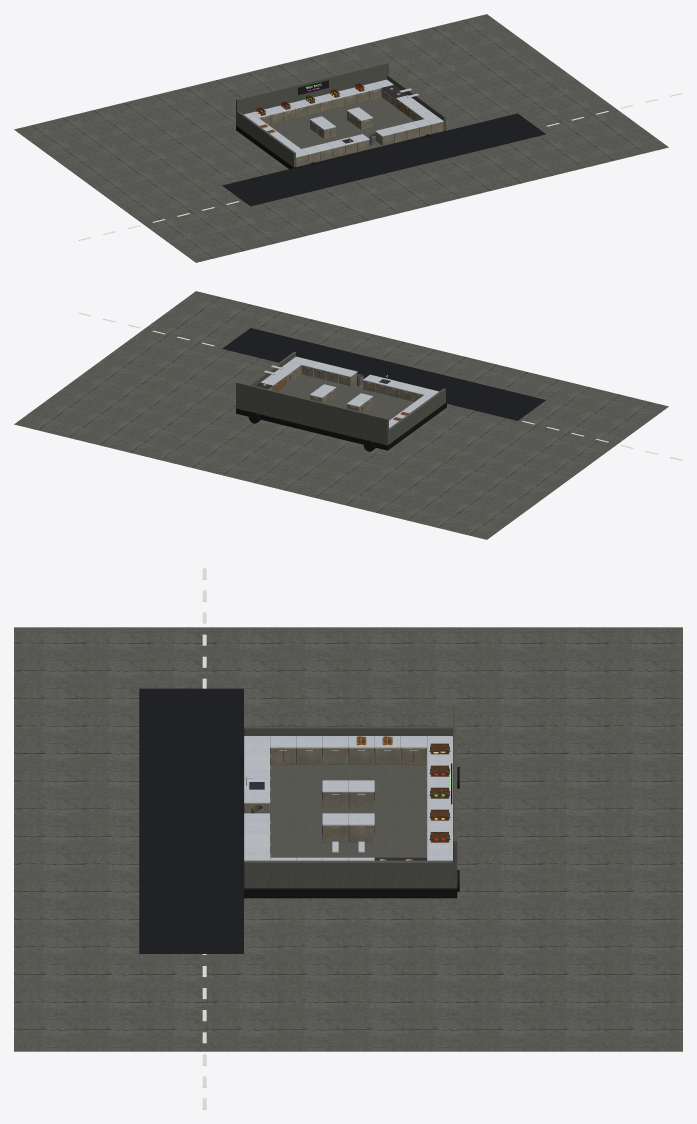
The model's file is taco.glb.
3 views of the same model, one above another, from view 1: azimuth 30°, elevation 25°; view 2: azimuth 150°, elevation 25°; view 3: azimuth 270°, elevation 25° (orthographic). The views are drawn at different scales.
Parts seen in each view (by area): view 1: statis; view 2: statis; view 3: statis.
Part boxes in pixels (x1,y1,x2,y2): statis: (14, 14, 682, 262); statis: (14, 291, 682, 539); statis: (14, 568, 682, 1109).
Bounding box in the file's own units: 58.8 × 3.37 × 30.72.
27 materials, 16 textured.
